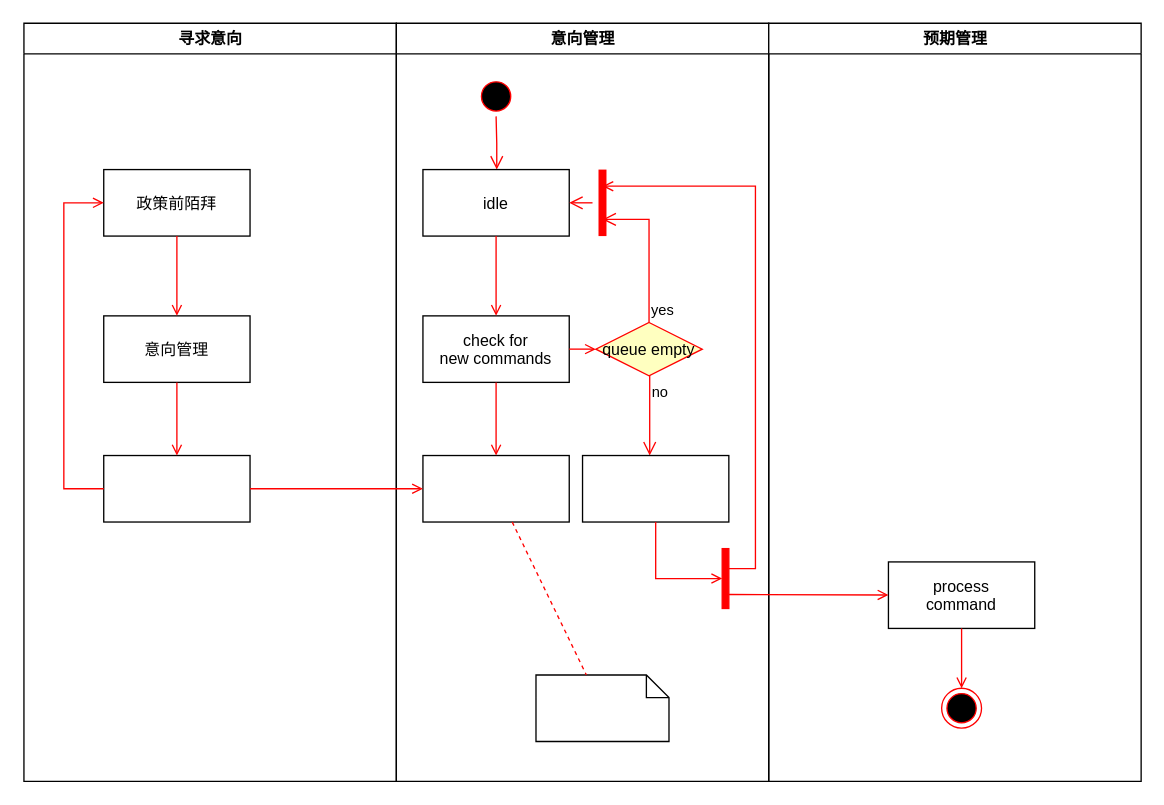
Some shapes in this 1164 by 805 pixel diagram are drawn without their labels. Here are the shapes that lost their labels. From the top down, the centre of each, then its label:
At (x=176, y=488): "post command".
At (x=495, y=488): "command queue".
At (x=655, y=488): "dispatch command worker thread".
At (x=602, y=707): "critical section".
